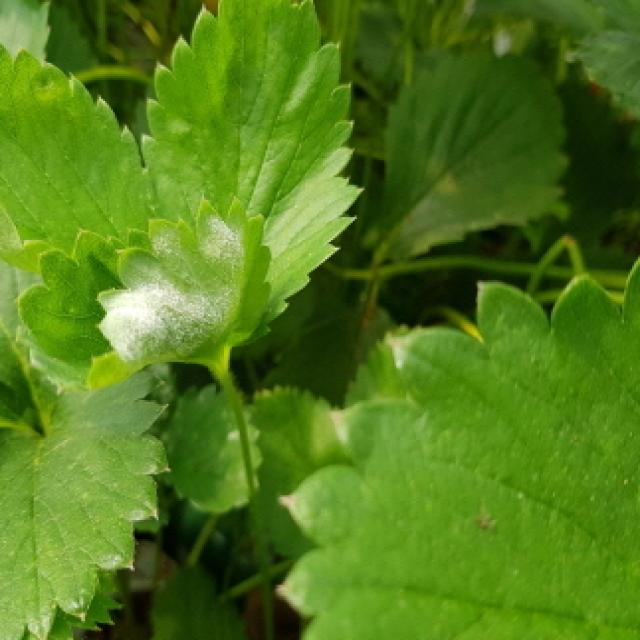Powdery Mildew Leaf: (12, 195, 275, 396), (0, 40, 150, 272)
